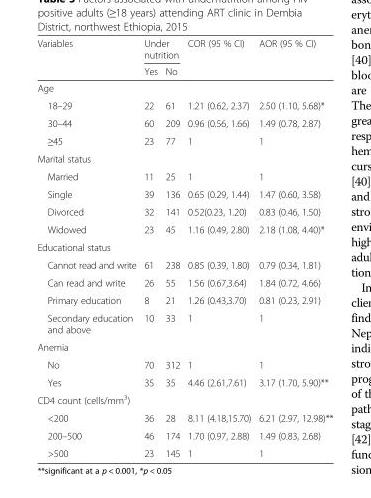table: (36, 37, 332, 458)
table column: (36, 37, 139, 458), (254, 37, 332, 458), (183, 37, 254, 458), (160, 37, 183, 458), (139, 37, 160, 458)
table column header: (36, 37, 332, 79)
table projected row header: (36, 149, 332, 167), (36, 337, 332, 355), (36, 390, 332, 408), (36, 79, 332, 96), (36, 238, 332, 255)
table row: (36, 308, 332, 337), (36, 37, 332, 62), (36, 96, 332, 114), (36, 131, 332, 149), (36, 149, 332, 167), (36, 184, 332, 202), (36, 202, 332, 220), (36, 220, 332, 238), (36, 255, 332, 273), (36, 273, 332, 291), (36, 337, 332, 355), (36, 355, 332, 373), (36, 390, 332, 408), (36, 408, 332, 426), (36, 426, 332, 444), (36, 62, 332, 79), (36, 79, 332, 96), (36, 114, 332, 131), (36, 167, 332, 184), (36, 238, 332, 255), (36, 291, 332, 308), (36, 373, 332, 390), (36, 444, 332, 458)
table spanning cell: (36, 37, 139, 79), (254, 37, 332, 79), (183, 37, 254, 79), (139, 37, 183, 62)
